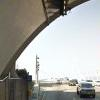Car: (66, 75, 97, 99)
